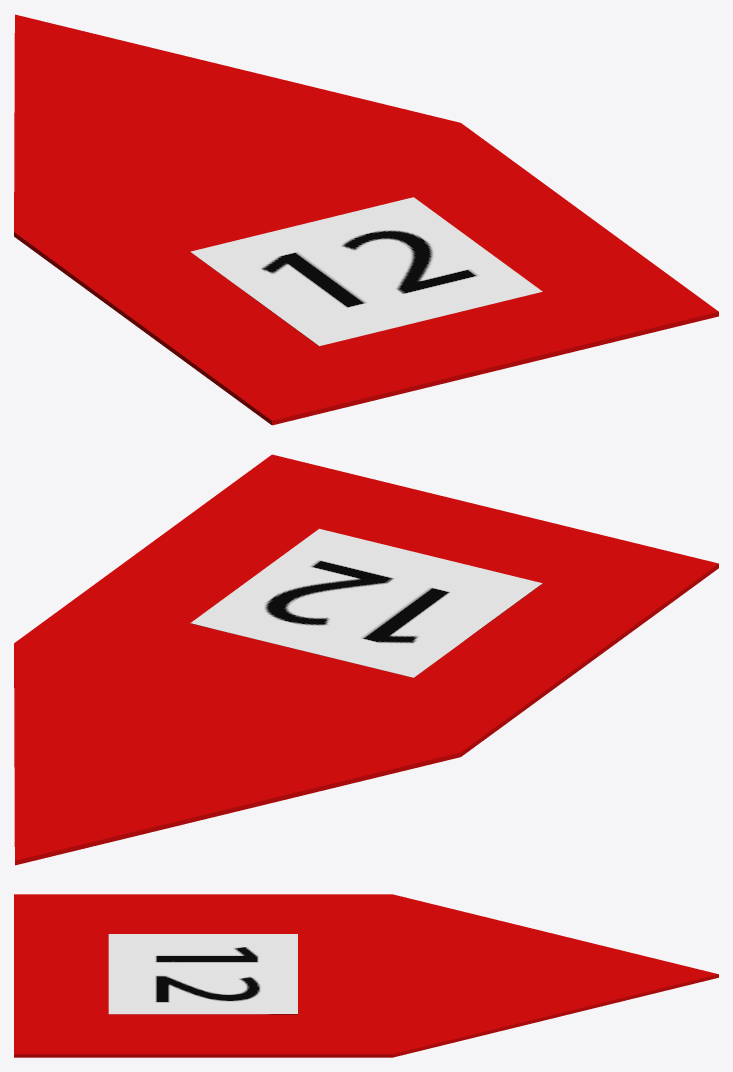
The picture shows the model from 3 angles, top to bottom: view 1: azimuth 30°, elevation 25°; view 2: azimuth 150°, elevation 25°; view 3: azimuth 270°, elevation 25°; orthographic projection. The views are drawn at different scales.
Parts seen in each view (by area): view 1: 立方体, 柱体, 立方体.001; view 2: 立方体, 柱体, 立方体.001; view 3: 立方体, 柱体, 立方体.001.
Boxes of the visible parts, box(x1,y1,x2,y2) form: 立方体: box(14, 123, 718, 425); 柱体: box(14, 14, 460, 231); 立方体.001: box(190, 197, 542, 346); 立方体: box(14, 454, 718, 756); 柱体: box(14, 643, 460, 865); 立方体.001: box(190, 528, 542, 677); 立方体: box(14, 894, 392, 1057); 柱体: box(392, 894, 718, 1057); 立方体.001: box(108, 934, 297, 1014).
Bounding box in the file's own units: 2 × 3.72 × 0.022.
3 materials, 1 textured.
